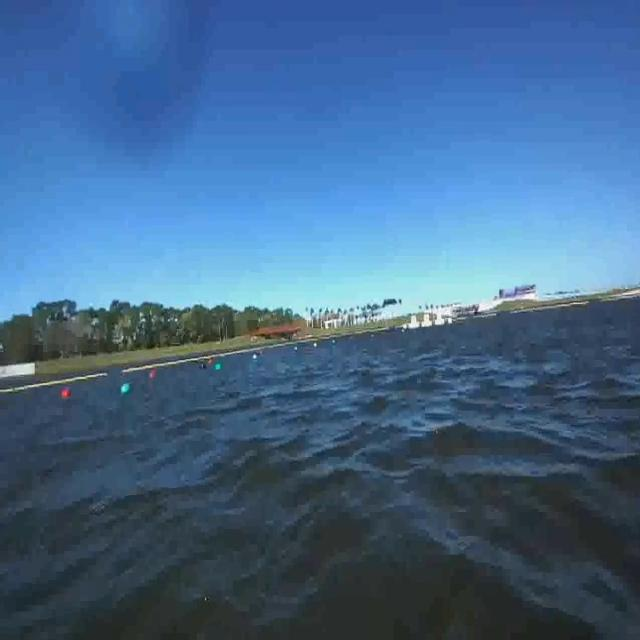green-buoy: (120, 384, 130, 396)
red-buoy: (62, 389, 72, 397)
